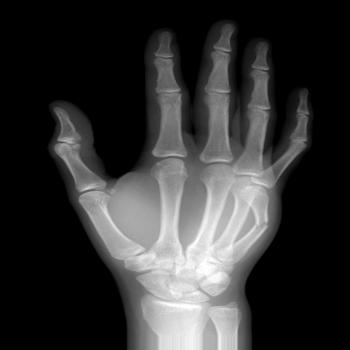Fracture: (248, 220, 273, 232)
